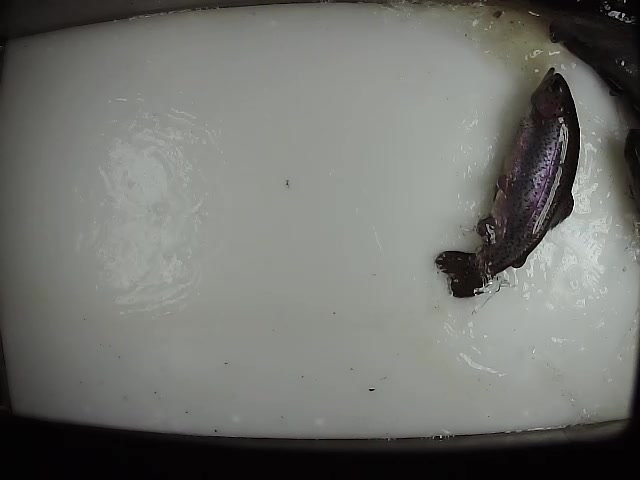fish: (433, 63, 584, 300)
